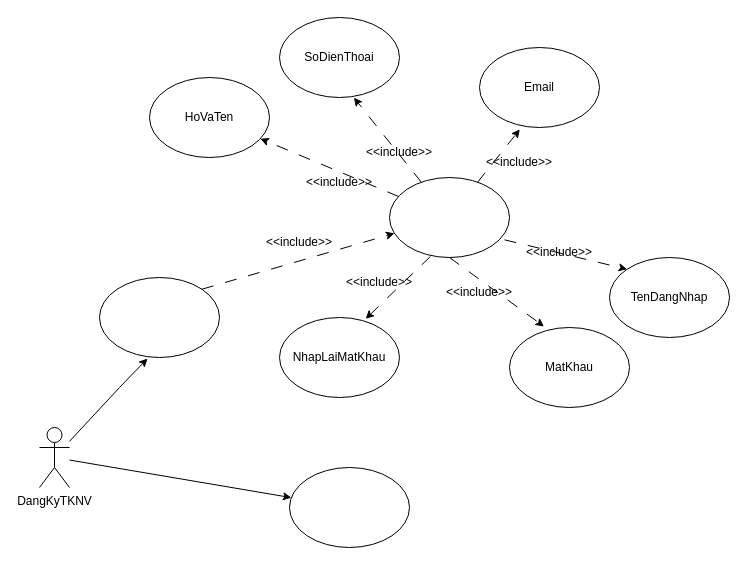
This 747x565 diagram has some shape labels left out. The shapes that lost their labels are listed below. From the top down, each one's centre as x and y in pixels, then its label:
point (449, 217): NhapThongTin
point (159, 317): Sign Up
point (349, 507): QuayLai
